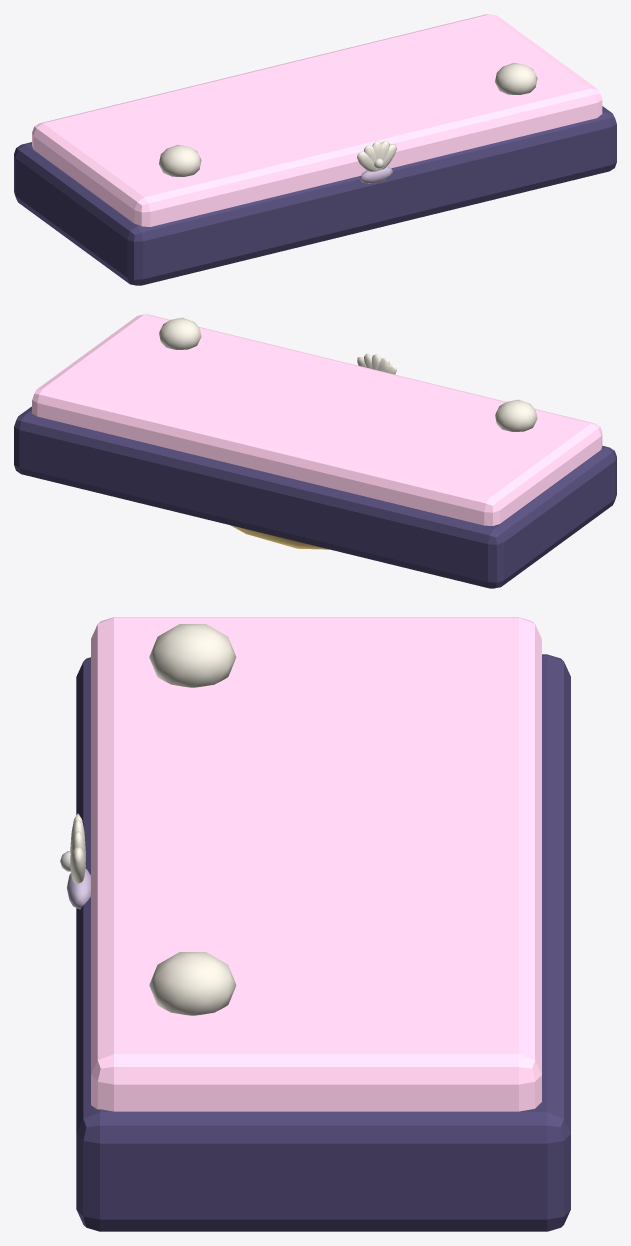
File: pearl_music_bar_6.glb
The picture shows the model from 3 angles, top to bottom: view 1: azimuth 30°, elevation 25°; view 2: azimuth 150°, elevation 25°; view 3: azimuth 270°, elevation 25°; orthographic projection. The views are drawn at different scales.
Parts seen in each view (by area): view 1: pearl_music_bar_6.001; view 2: pearl_music_bar_6.001; view 3: pearl_music_bar_6.001.
Part boxes in pixels (x1,y1,x2,y2): pearl_music_bar_6.001: (14,14,616,285); pearl_music_bar_6.001: (14,314,616,588); pearl_music_bar_6.001: (60,617,570,1231).
Bounding box in the file's own units: 6.21 × 1.7 × 2.81.
